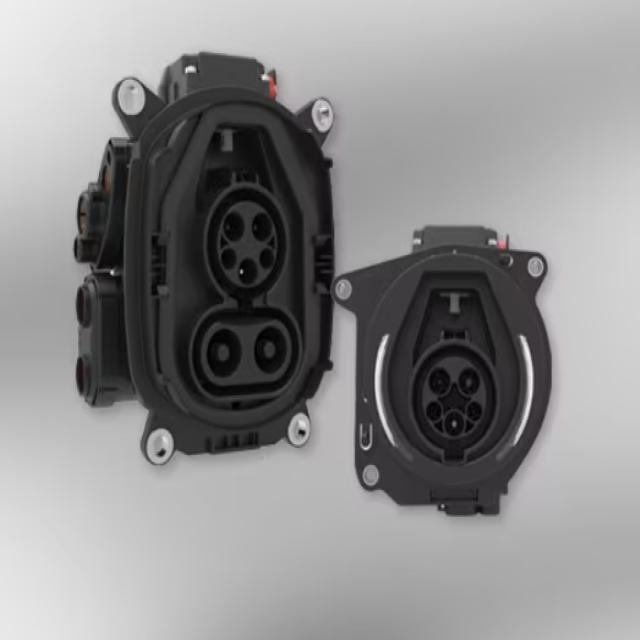CCS1: (188, 178, 322, 447)
